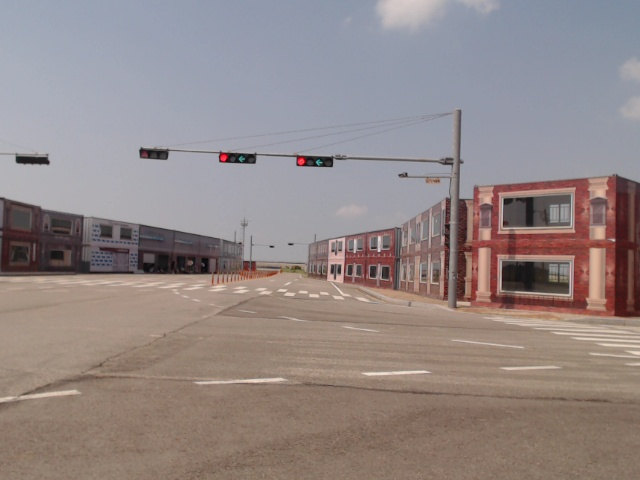left_green_4: (297, 156, 332, 167), (219, 153, 256, 163)
